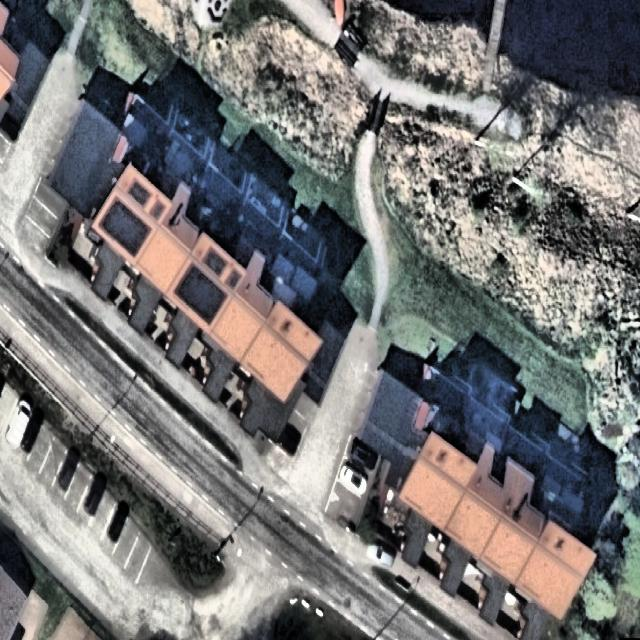roof_pv: (172, 262, 226, 329), (98, 197, 154, 260)
